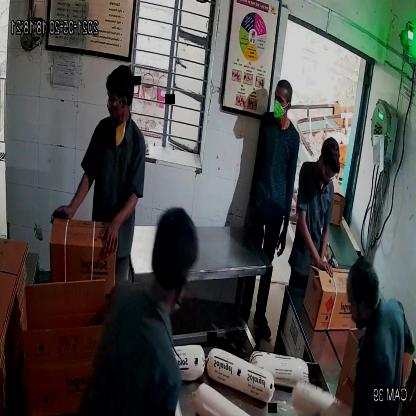goggles: (101, 93, 133, 110), (321, 160, 338, 182)
no_goggles: (271, 91, 294, 111)
